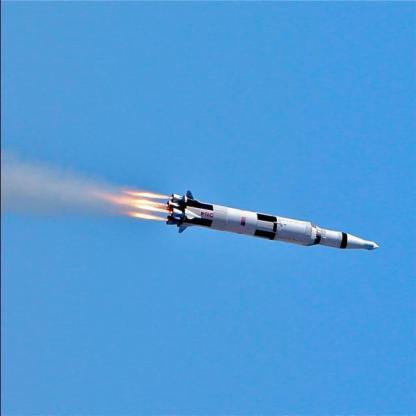MIL_TBM: (166, 188, 377, 255)
